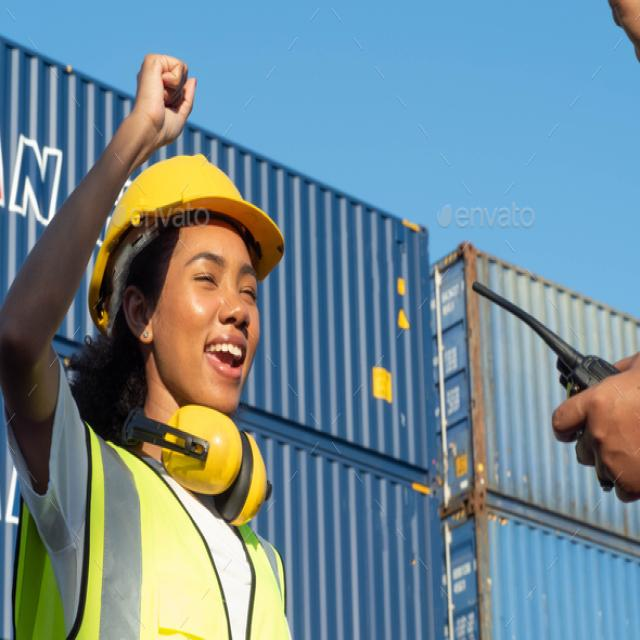helmet: (86, 149, 286, 341)
vest: (10, 412, 296, 640)
